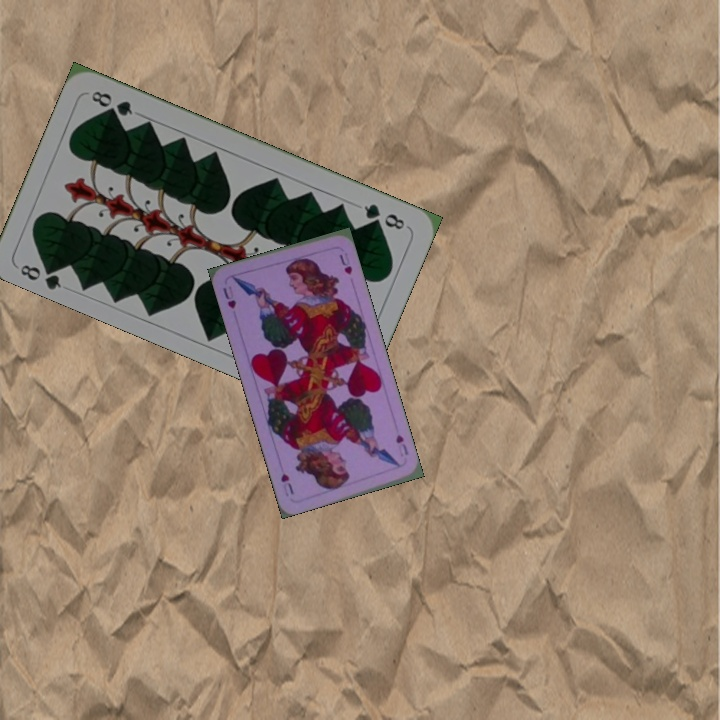G8: (16, 258, 64, 292), (359, 199, 408, 232)
HU: (219, 282, 239, 311), (392, 430, 411, 457)
